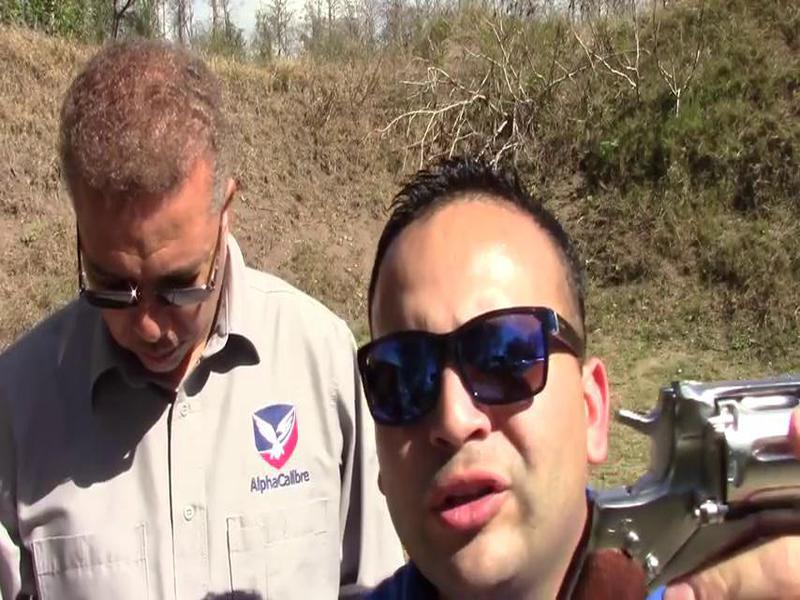Revolver: (538, 361, 800, 593)
